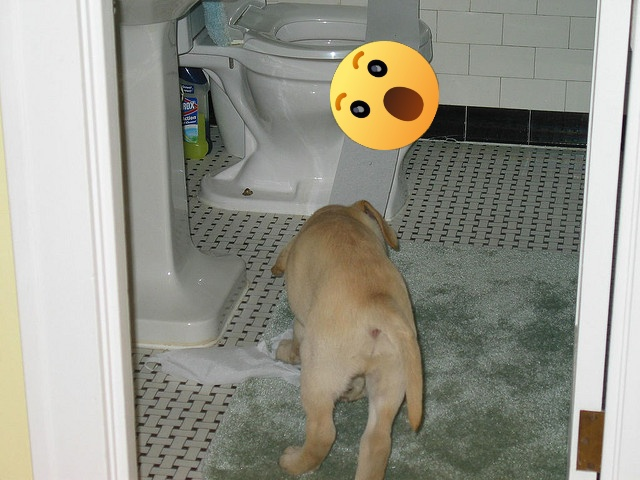wow: (330, 41, 439, 150)
